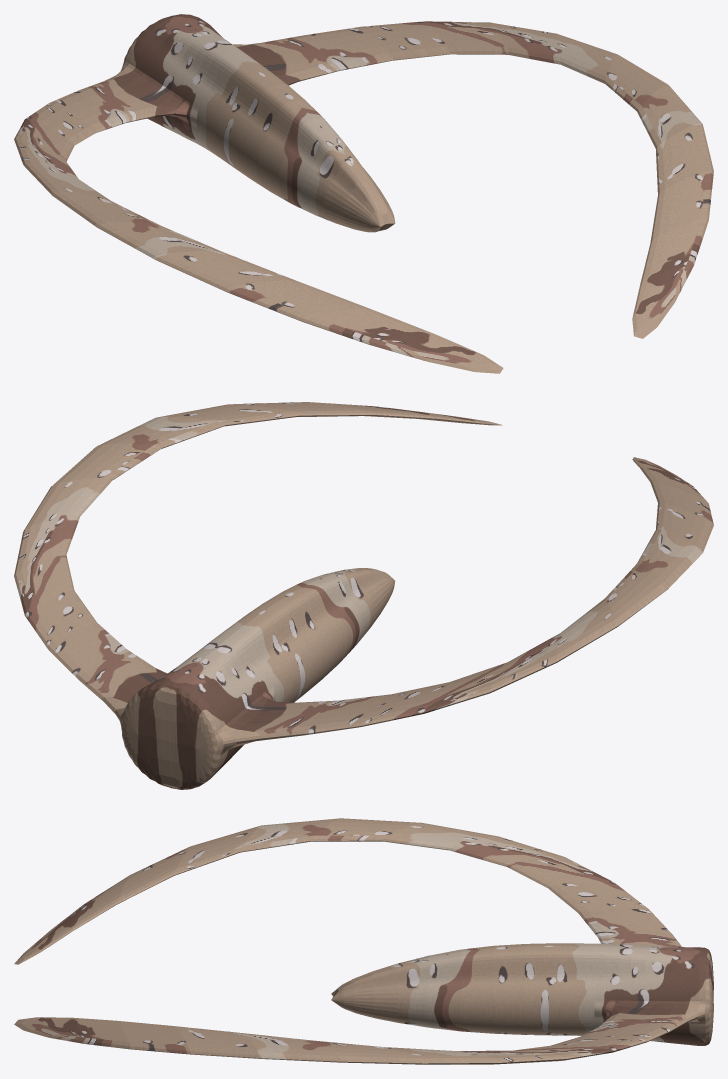
Rendered from statekrogi.fbx.
3 renders of one model, top to bottom at view 1: azimuth 30°, elevation 25°; view 2: azimuth 150°, elevation 25°; view 3: azimuth 270°, elevation 25°, orthographic. The views are drawn at different scales.
Visible parts, largest first — view 1: Circle; view 2: Circle; view 3: Circle.
Part boxes in pixels (x1,y1,x2,y2): Circle: [14, 14, 713, 373]; Circle: [14, 402, 713, 789]; Circle: [14, 818, 713, 1064].
Size of the model in its own units: 1487 by 300 by 1814.
Materials: 1 (1 with a texture image).
